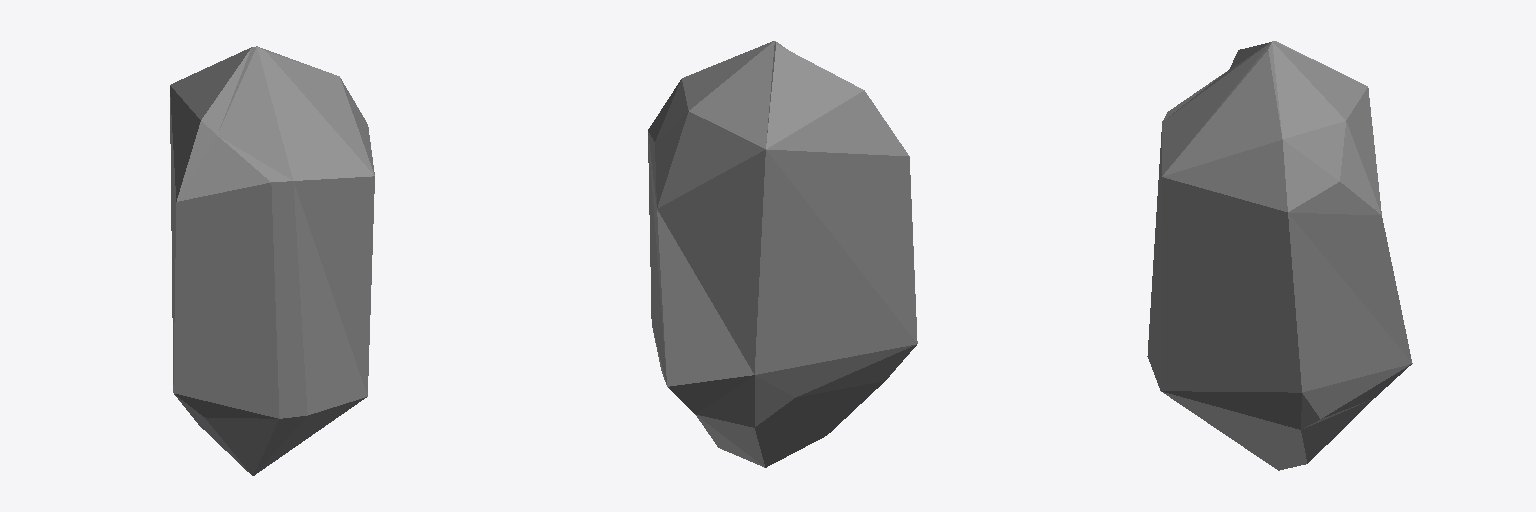
3 views of the same model, side by side, from view 1: azimuth 30°, elevation 25°; view 2: azimuth 150°, elevation 25°; view 3: azimuth 270°, elevation 25° (orthographic).
Parts seen in each view (by area): view 1: crystal_small_003; view 2: crystal_small_003; view 3: crystal_small_003.
Boxes of the visible parts, box(x1,y1,x2,y2) form: crystal_small_003: box(170, 46, 374, 475); crystal_small_003: box(648, 41, 917, 467); crystal_small_003: box(1147, 41, 1412, 470).
Size of the model in its own units: 2.82 by 4.96 by 2.79.